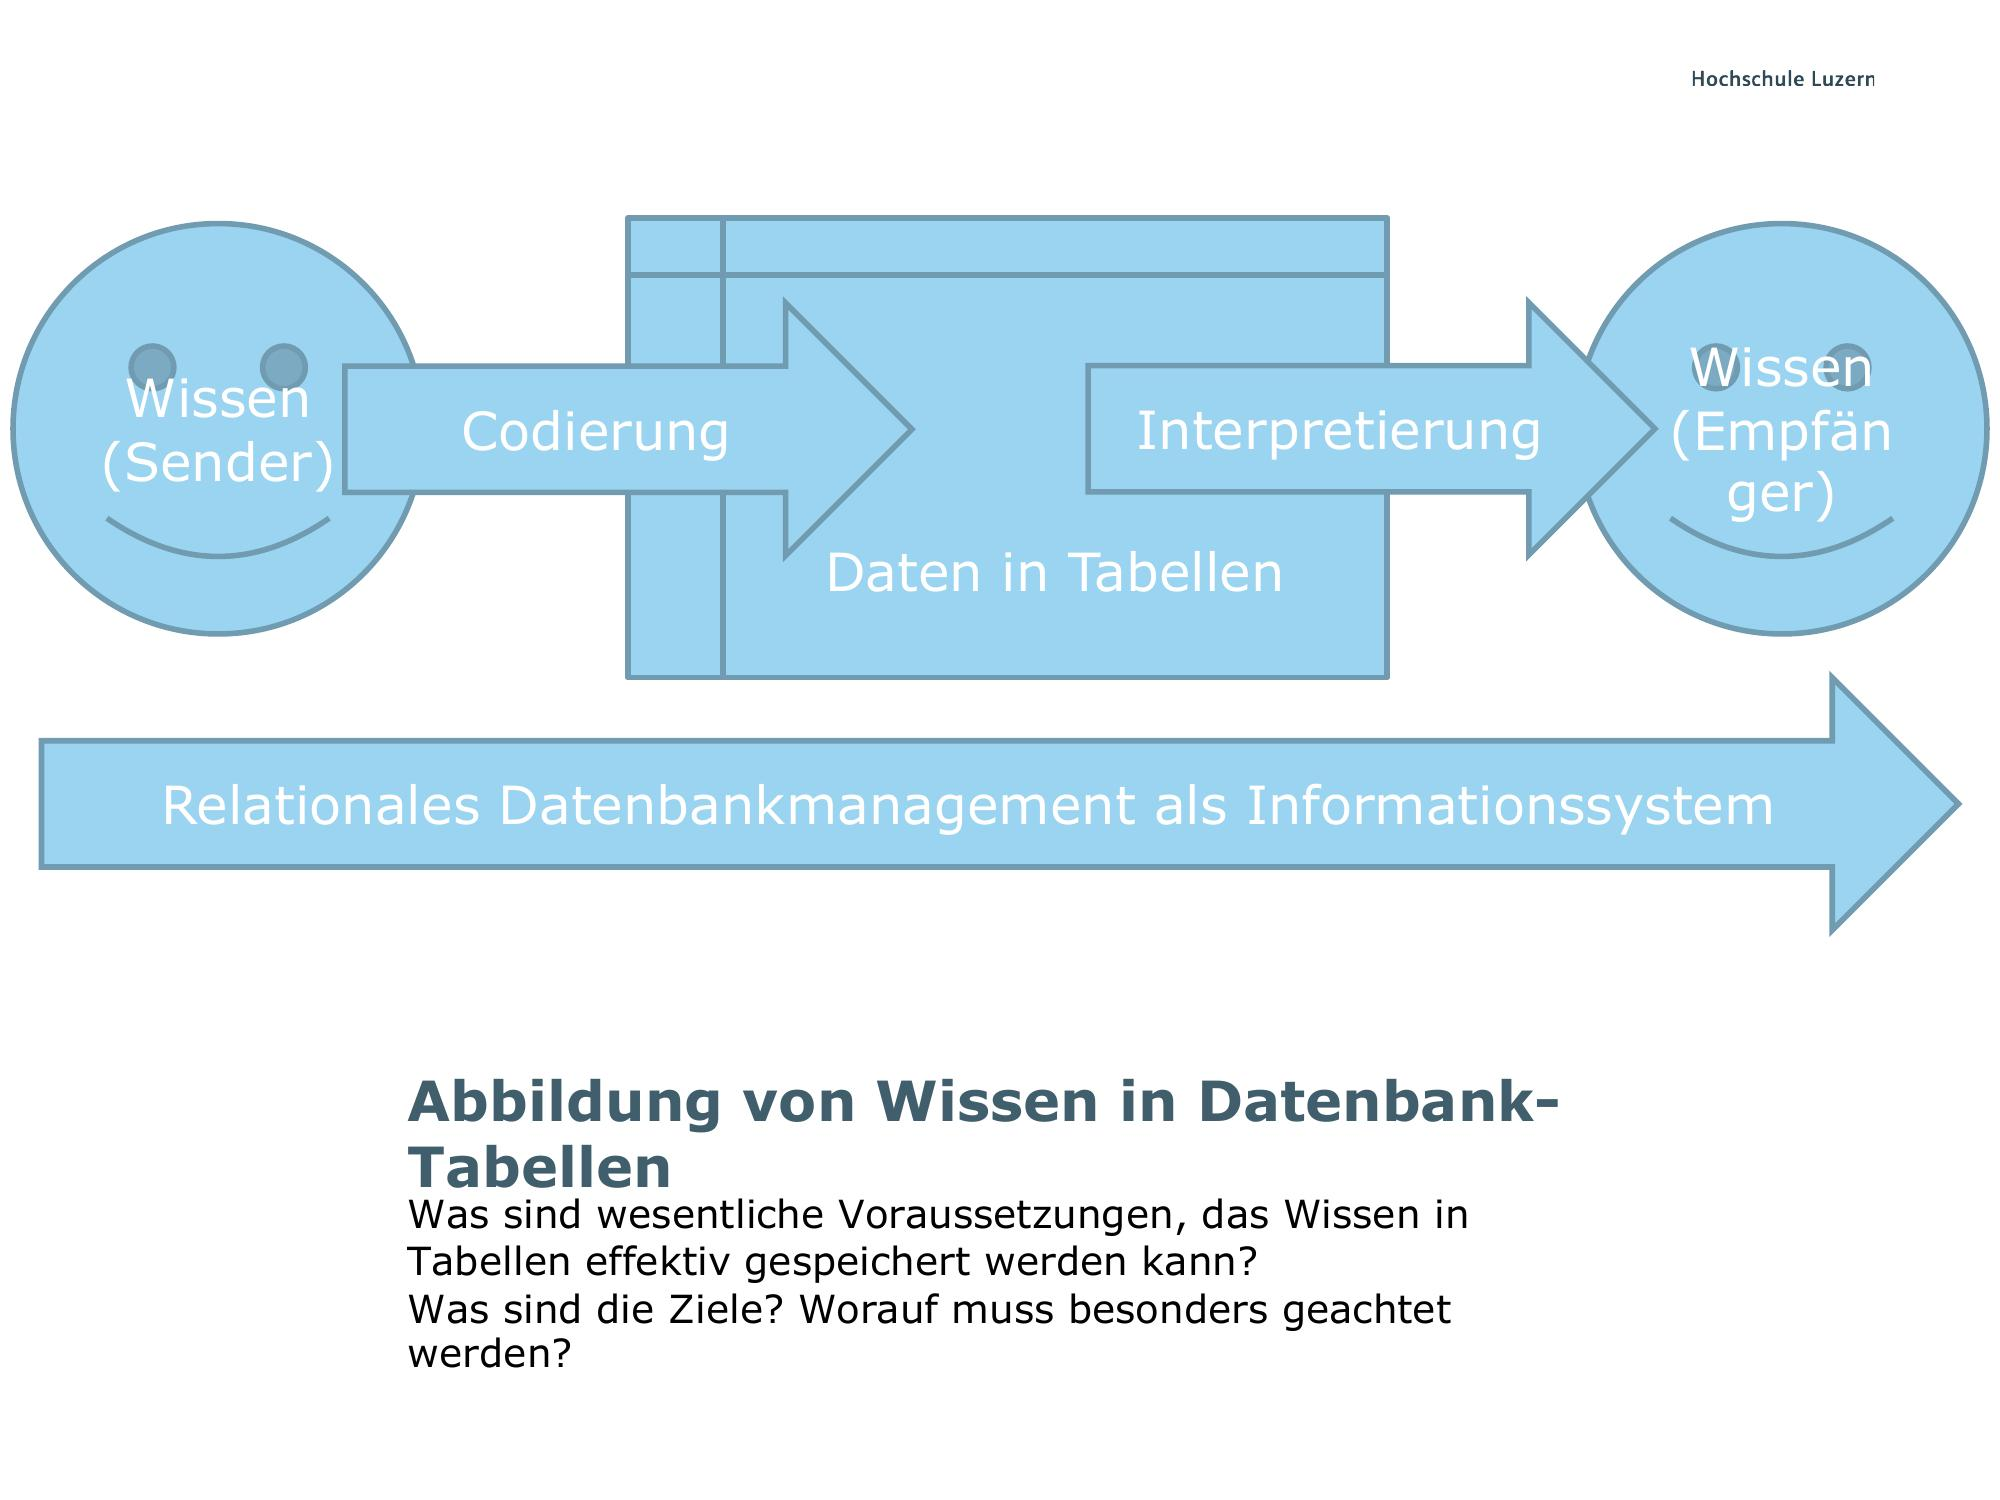Title: (367, 1049, 1584, 1194)
